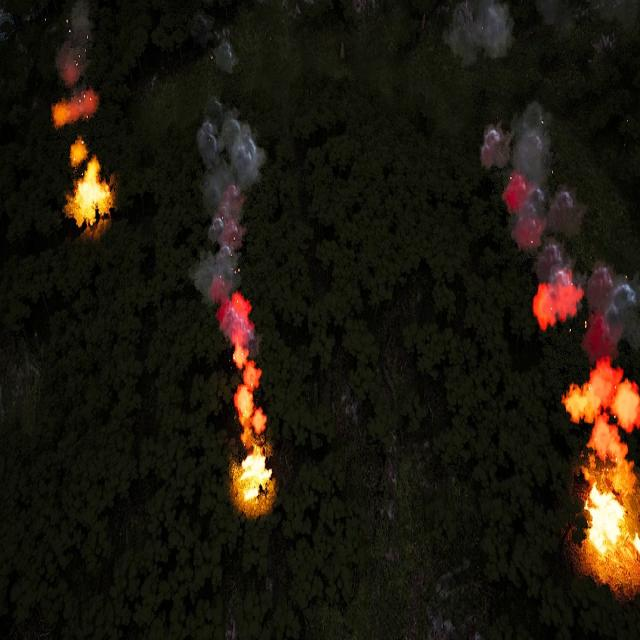fire: (584, 479, 640, 588), (68, 162, 110, 226), (235, 451, 274, 507), (54, 86, 100, 130)
smoke: (482, 101, 640, 459), (188, 94, 266, 453), (444, 0, 514, 70), (56, 0, 94, 83)
